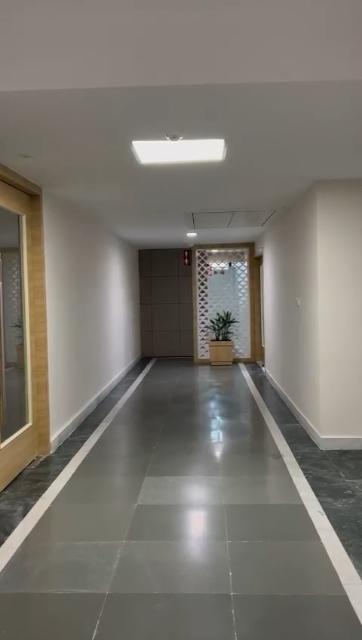door: (2, 168, 48, 488)
floor: (1, 356, 361, 639)
object: (209, 310, 239, 368)
wall: (261, 177, 362, 439), (44, 195, 136, 435)
